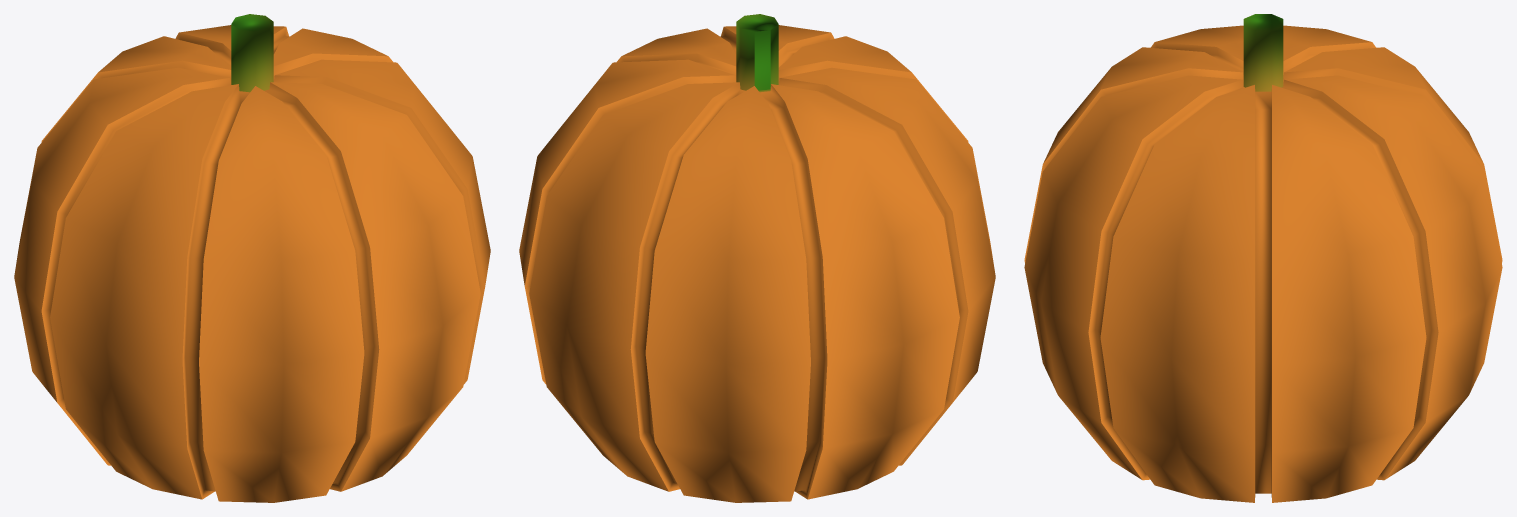
Rendered from Pumpkin.fbx.
3 views of the same model, side by side, from view 1: azimuth 30°, elevation 25°; view 2: azimuth 150°, elevation 25°; view 3: azimuth 270°, elevation 25° (orthographic).
Visible parts, largest first — view 1: Sphere; view 2: Sphere; view 3: Sphere.
Part boxes in pixels (x1=…): Sphere: x1=14, y1=14, x2=490, y2=502; Sphere: x1=519, y1=14, x2=995, y2=502; Sphere: x1=1024, y1=14, x2=1502, y2=502.
Bounding box in the file's own units: 50 × 50 × 50.
Materials: 1 (1 with a texture image).
